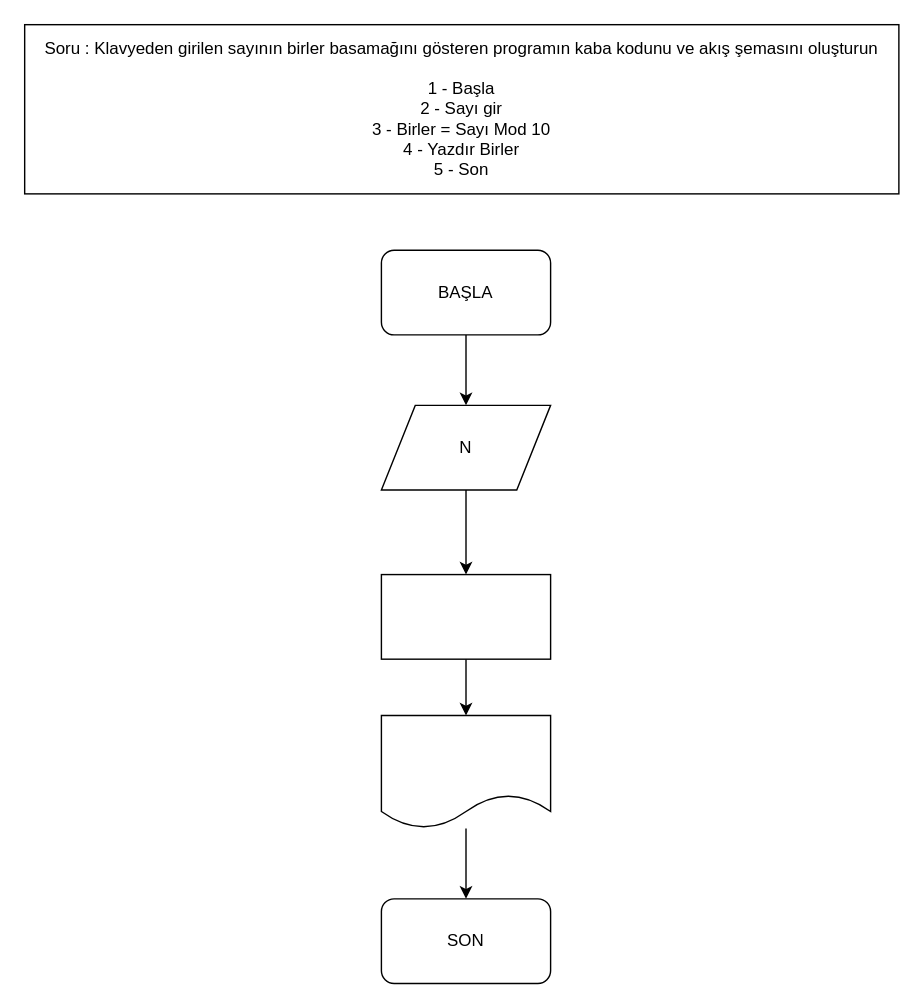
Some shapes in this 924 by 1008 pixel diagram are drawn without their labels. Here are the shapes that lost their labels. From the top down, the box of each, then its label:
(380, 573, 551, 659): SONUC = N MOD 10
(380, 714, 551, 828): SONUC
